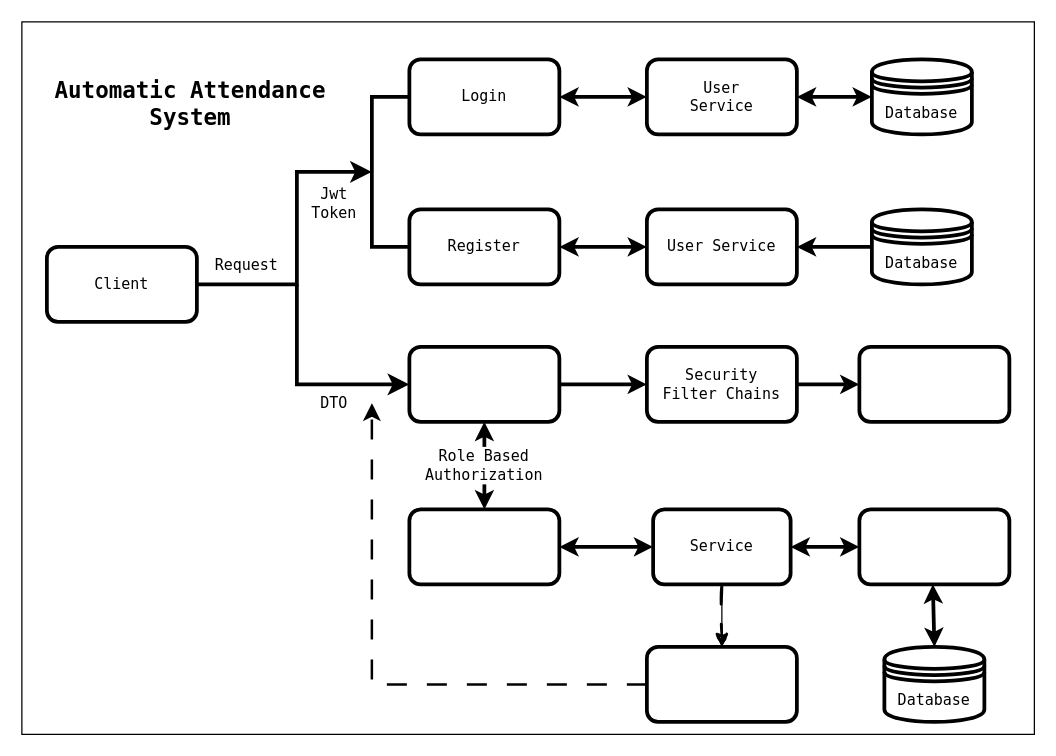
Some shapes in this 1056 by 756 pixel diagram are drawn without their labels. Each missing label, with the centre of its shape:
"Authentication" goes at (484,383).
"Controller" goes at (484,546).
"Global Exception handler" goes at (721,683).
"JWT Filter (Validate Token)" goes at (934,383).
"Repository" goes at (934,546).
